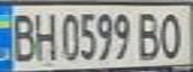0: (57, 9, 81, 62)
5: (78, 9, 96, 61)
9: (112, 9, 136, 61), (93, 9, 115, 61)
B: (6, 9, 39, 62), (133, 9, 163, 61)
H: (30, 8, 57, 62)
O: (154, 9, 187, 60)
